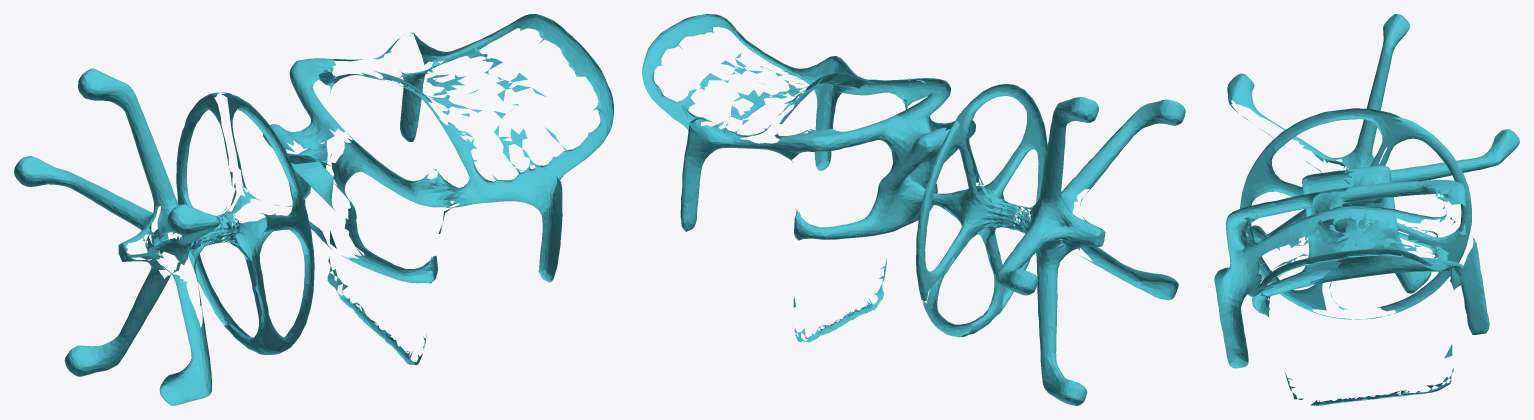
The picture shows the model from 3 angles, left to right: view 1: azimuth 30°, elevation 25°; view 2: azimuth 150°, elevation 25°; view 3: azimuth 270°, elevation 25°; orthographic projection. The views are drawn at different scales.
Parts seen in each view (by area): view 1: Renderer Node; view 2: Renderer Node; view 3: Renderer Node.
Part boxes in pixels (box(x1,y1,x2,y2)): Renderer Node: box(14, 14, 613, 405); Renderer Node: box(642, 14, 1185, 405); Renderer Node: box(1214, 14, 1519, 405).
Size of the model in its own units: 0.7256 by 0.4804 by 0.4779.
1 material, 1 textured.
